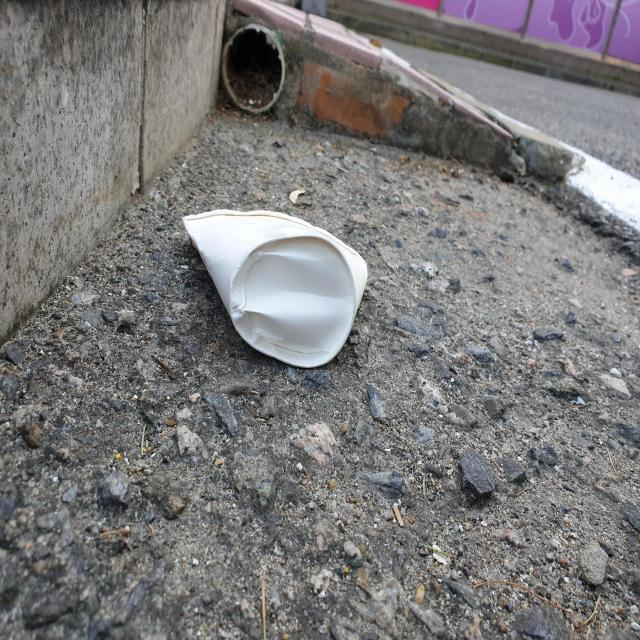paperpack: (182, 208, 368, 367)
